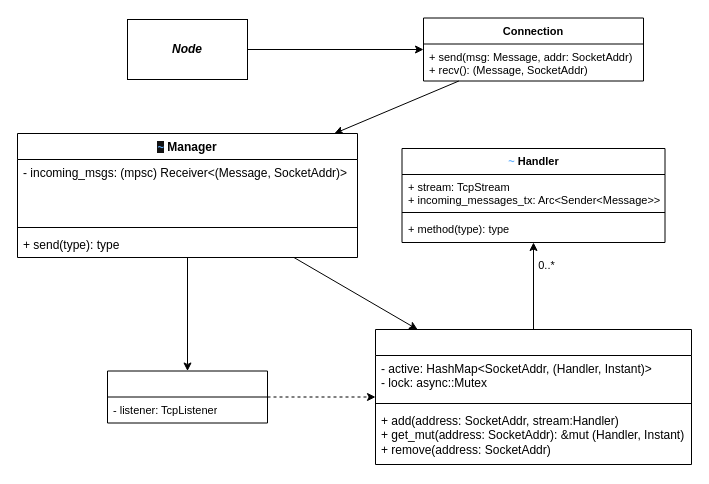
This 709x484 diagram has some shape labels left out. The shapes that lost their labels are listed below. From the top down, each one's box as (x1, y1, x2, y2) in pixels, then its label:
(106, 370, 268, 423): ~ Acceptor
(374, 328, 692, 464): ActiveMonitor
